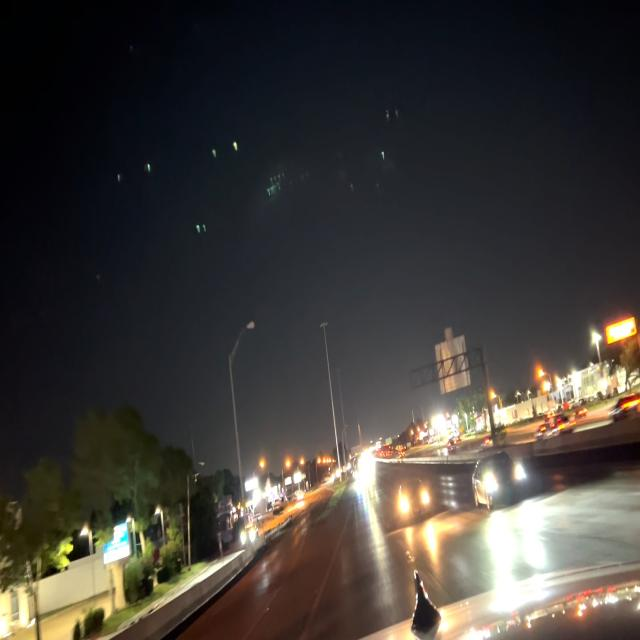back-of-sign: (433, 326, 472, 397)
